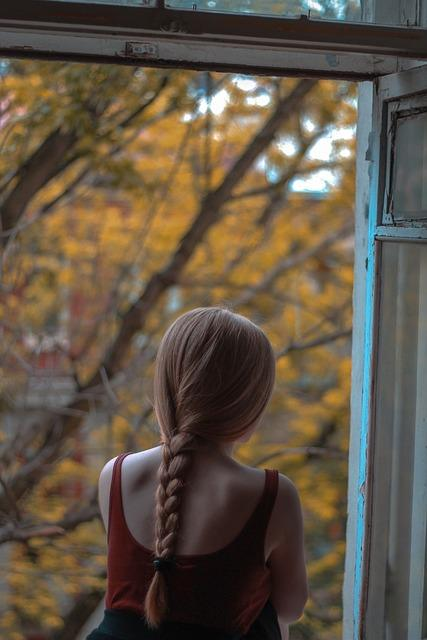Non_Gorille: (3, 125, 419, 640)
